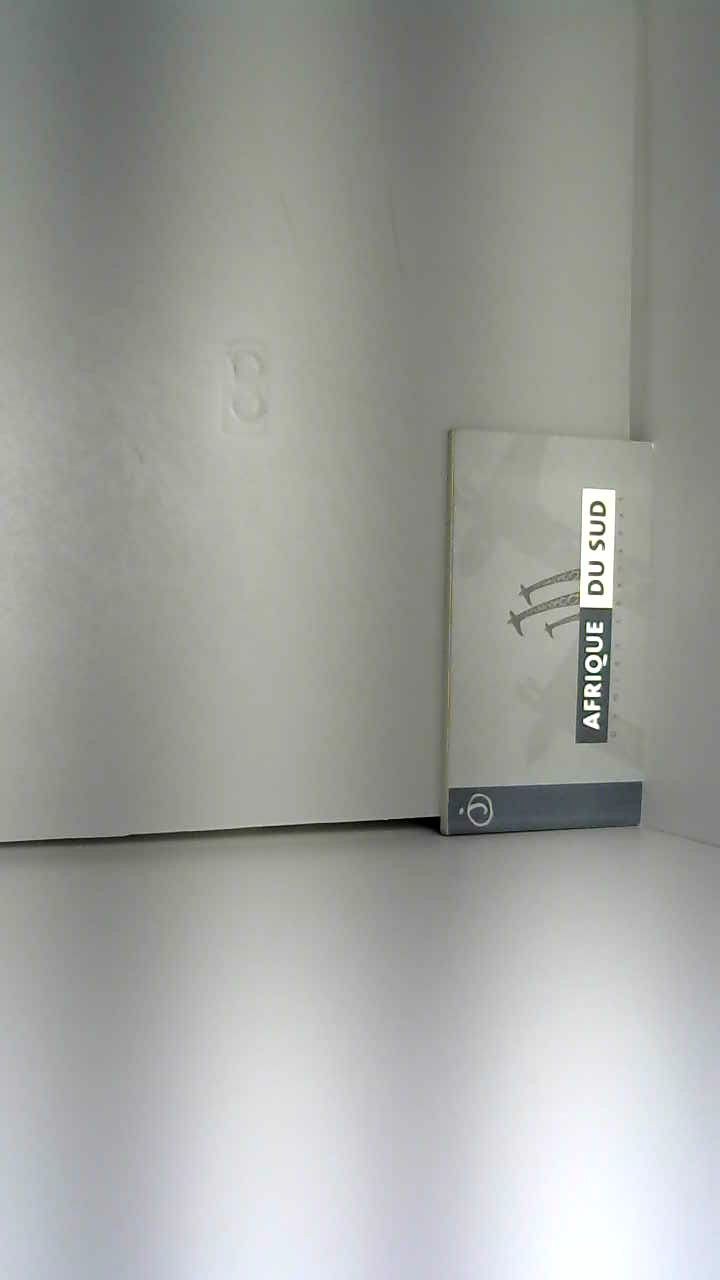book: (396, 382, 694, 878)
